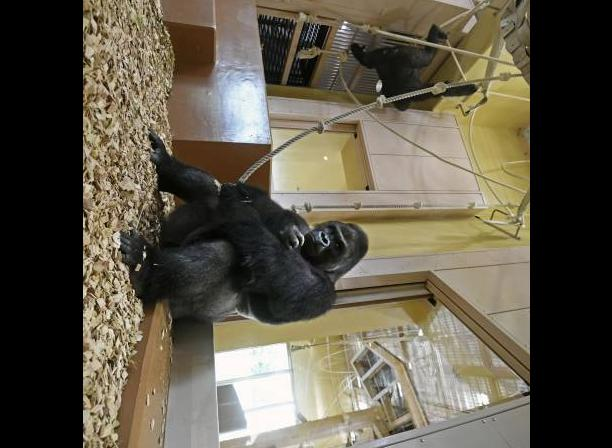gorille_Autres: (131, 140, 372, 338)
